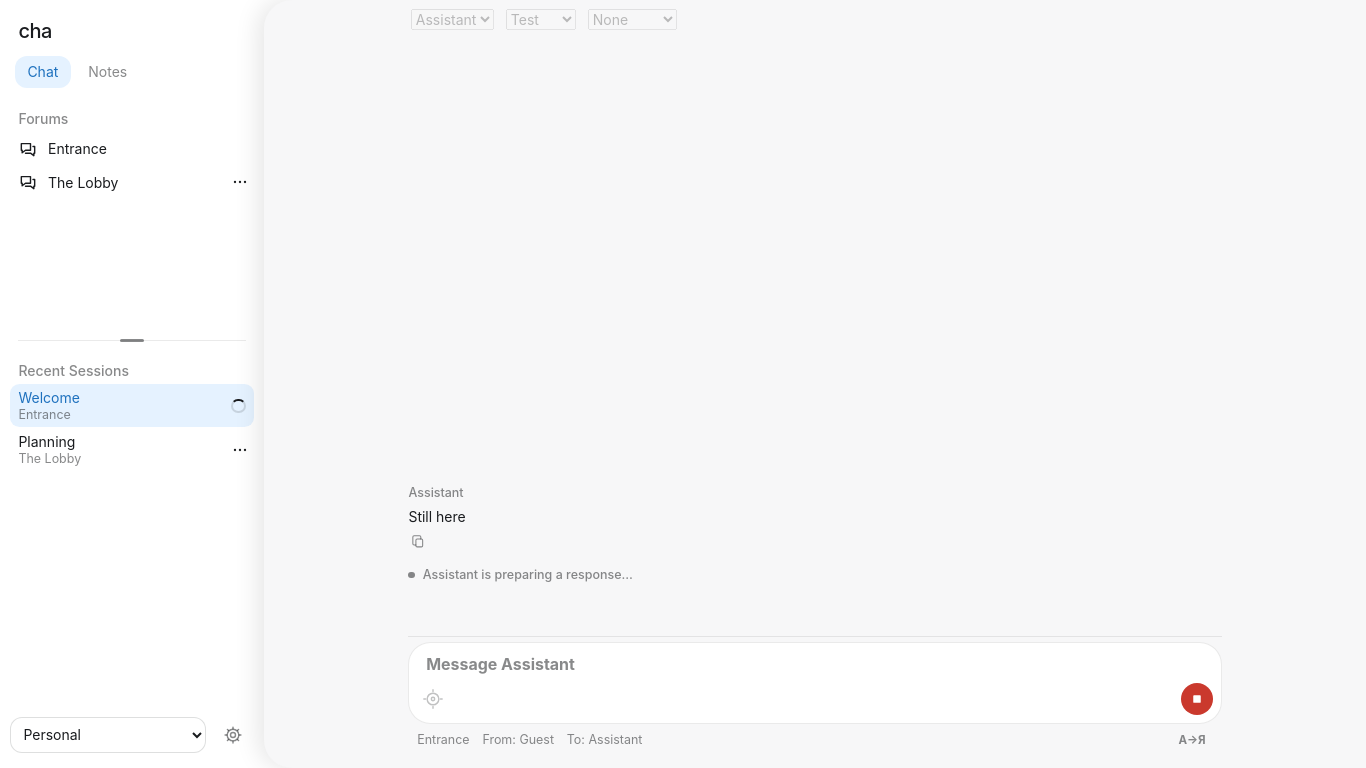
Test case: live chat › keeps Stop visible until authoritative generation state becomes inactive
The image size is (1366, 768).
Check: the text box labelled "Message" is enabled, box [417,651,1213,679]
Click the button named "Stop generation" at (1197, 699), box [1181,683,1213,715]
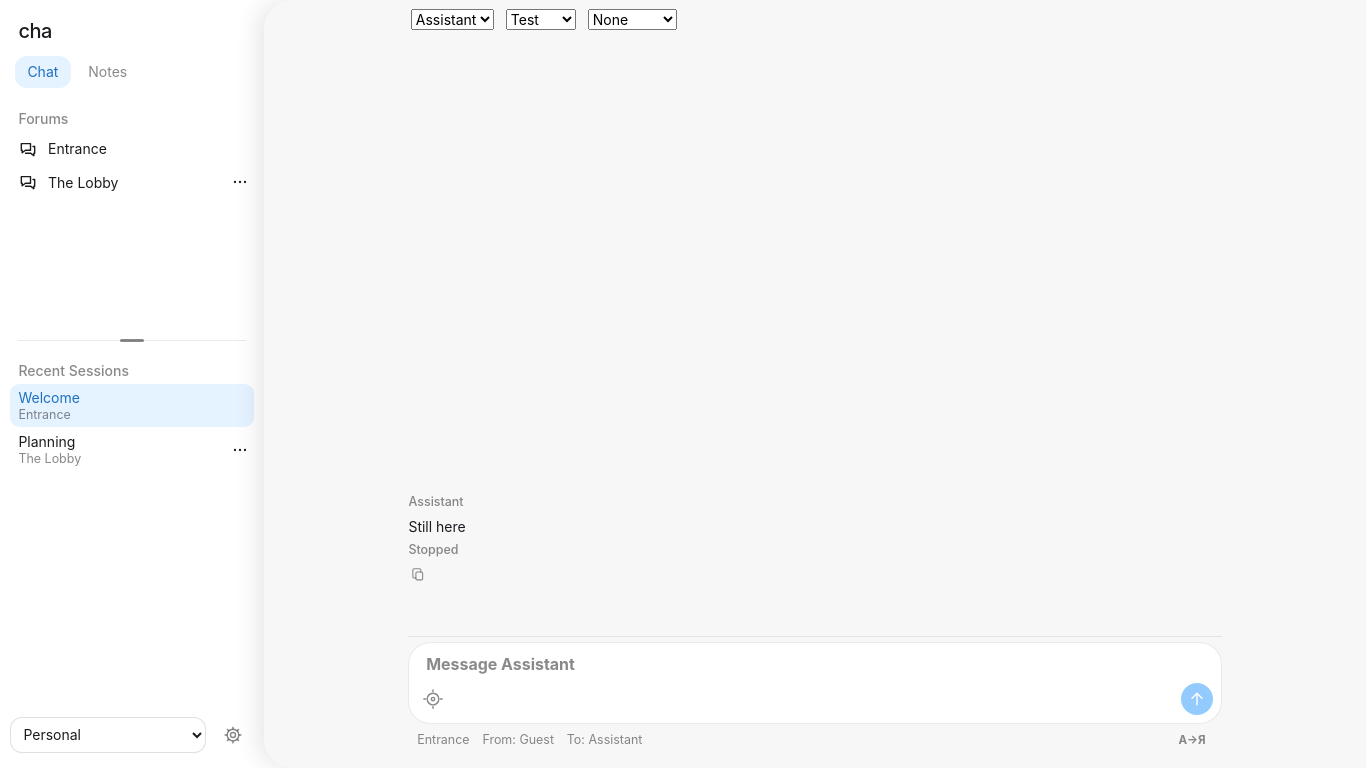
Check: the button named "Send message" is shown, box [1181,683,1213,715]
Check: the text "Stopped" is shown, box [408,542,459,557]
